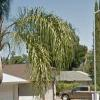Palm tree: (5, 6, 81, 87)
